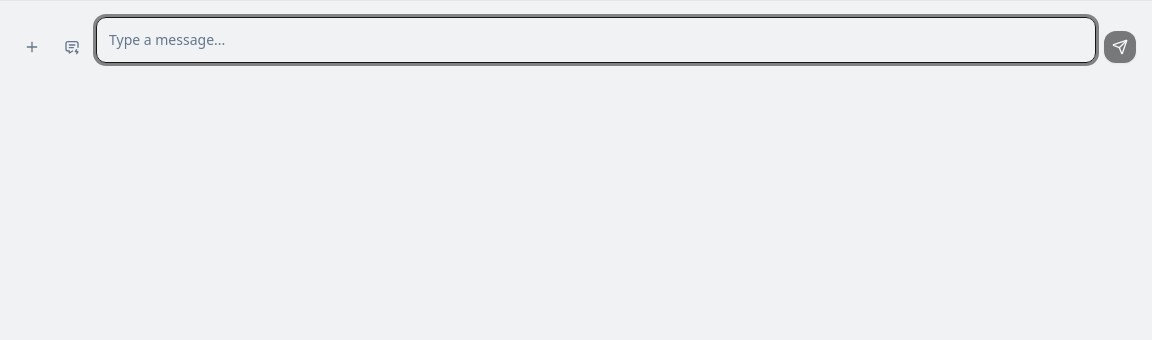
MessageInput carousel composer › shows a carousel composer action in the attachments menu
Press the mouse on the button named "attachments" at (32, 47), box left=16, top=31, right=48, bottom=63
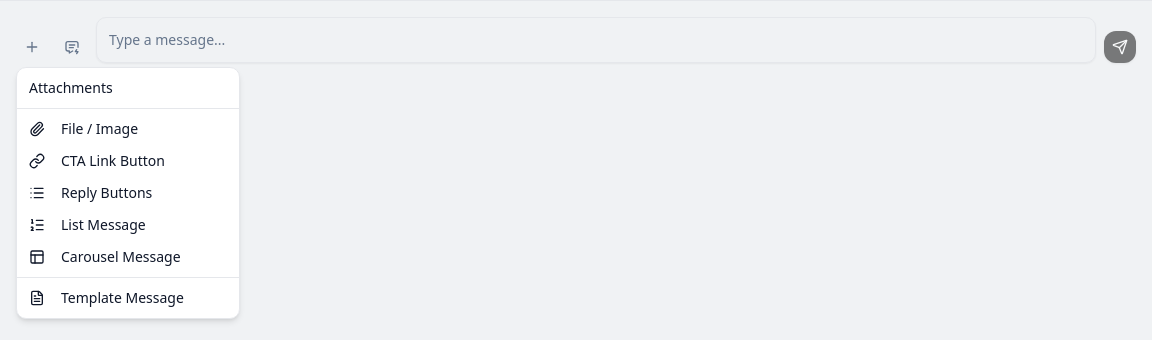
Expected: the text "Carousel Message" is shown, left=61, top=247, right=180, bottom=267
